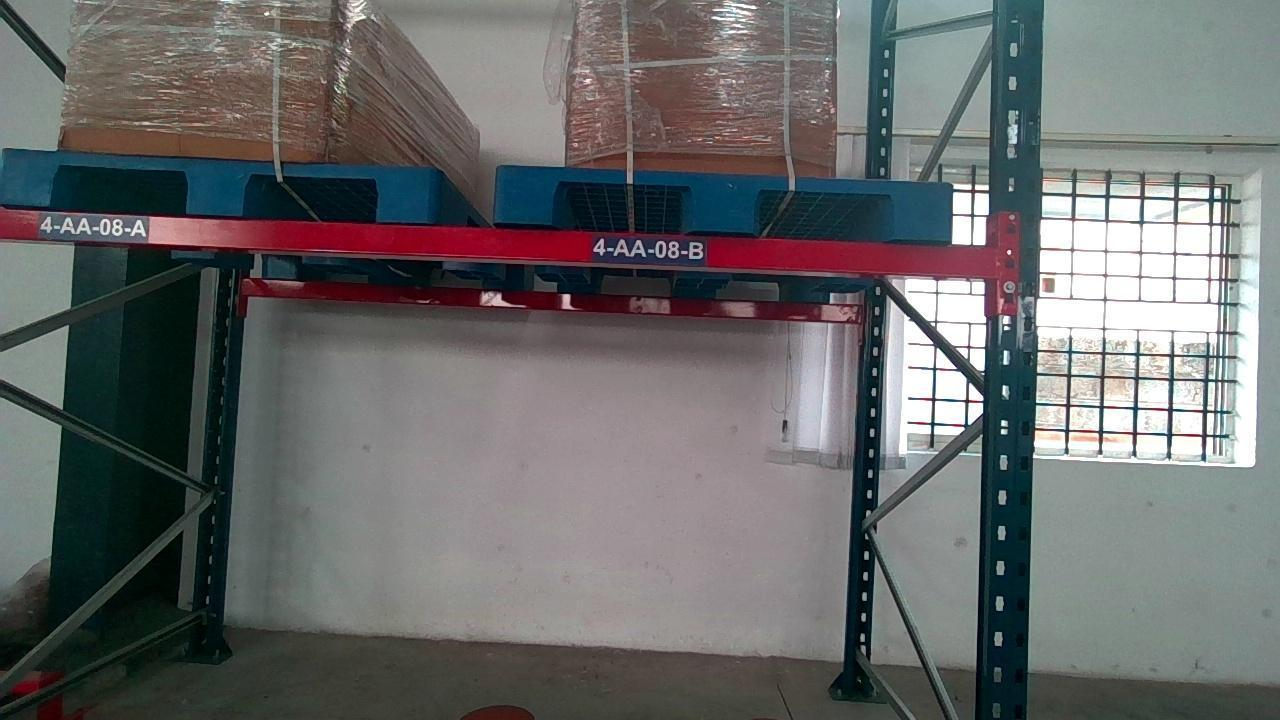h_rack: (4, 211, 994, 280)
small_pallet: (495, 168, 952, 234), (4, 154, 434, 215)
